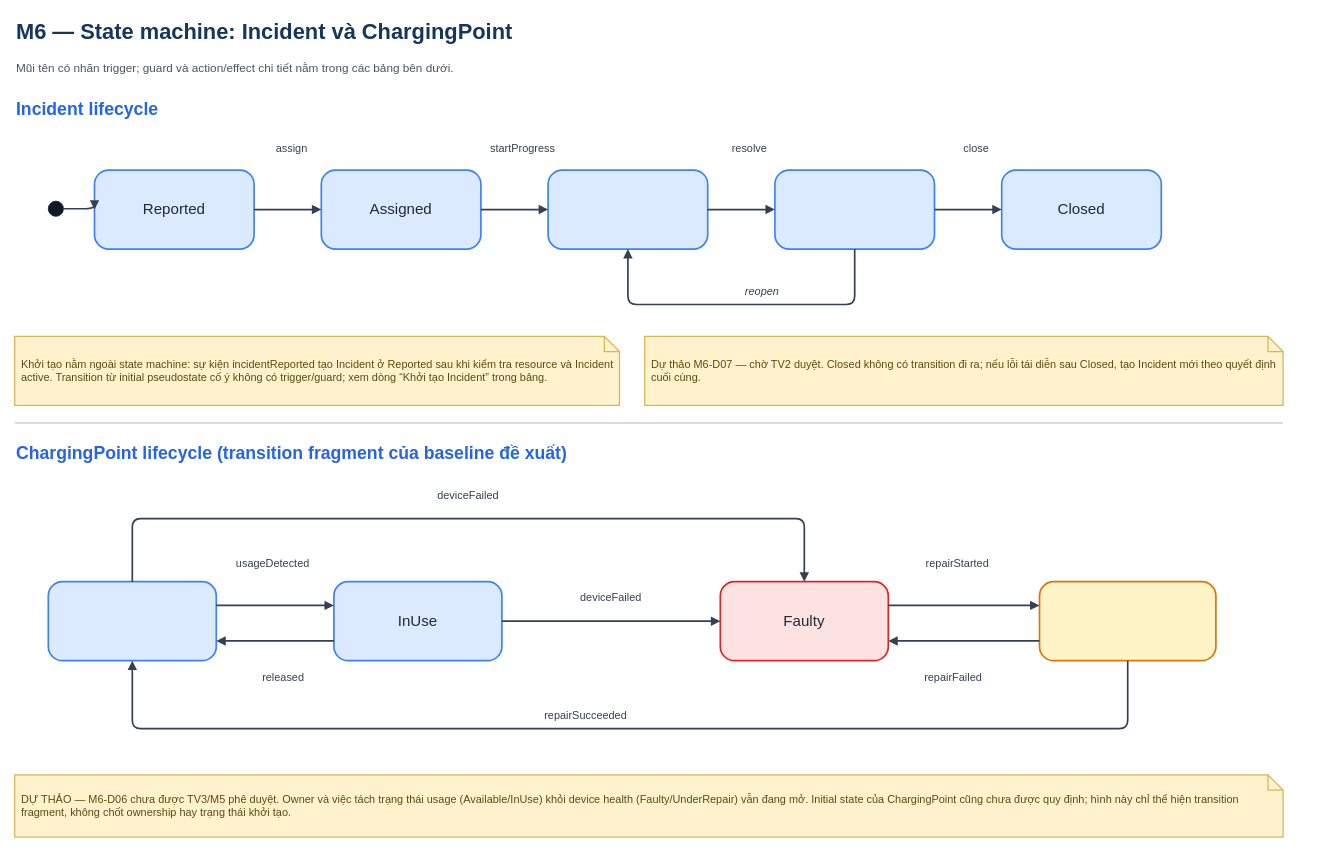
The diagram is 1323 pixels wide and 852 high, and some of its shapes have lost their labels. The centre of each missing label's shape, as x and y in pixels:
Available: the point at 132,620
InProgress: the point at 627,209
Resolved: the point at 854,209
UnderRepair: the point at 1127,620
